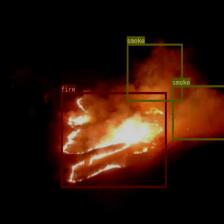fire: (60, 91, 166, 188)
smoke: (127, 44, 182, 102), (171, 85, 224, 140)
